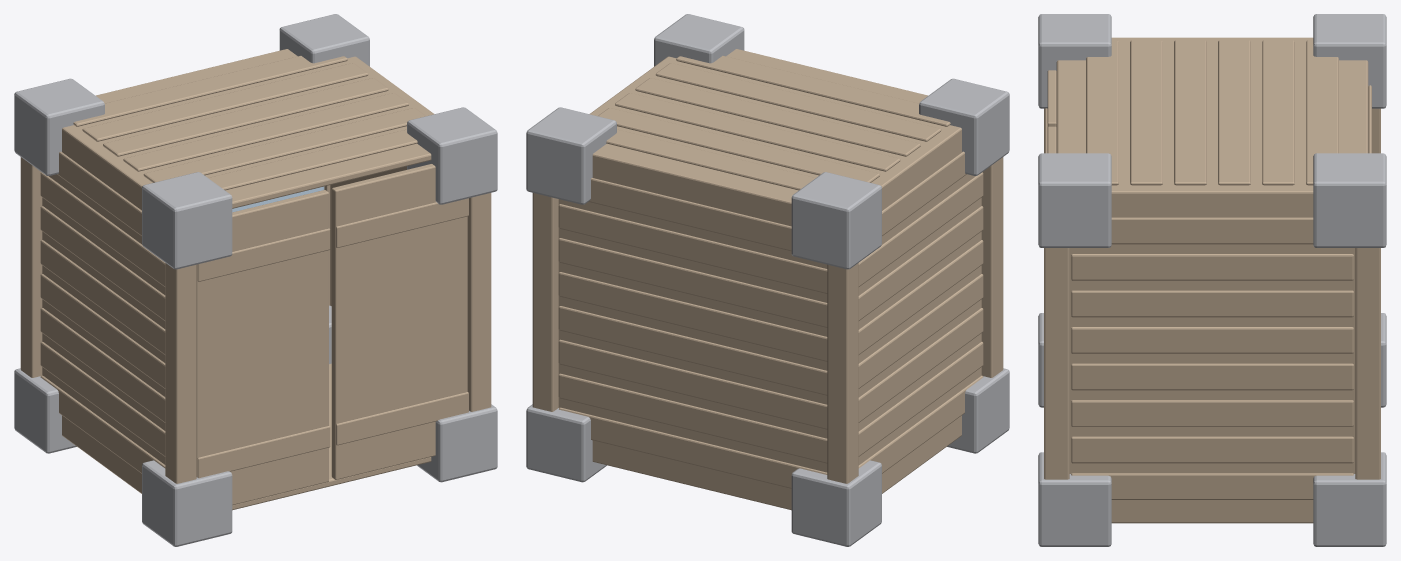
File: payload-crate.glb
3 renders of one model, left to right at view 1: azimuth 30°, elevation 25°; view 2: azimuth 150°, elevation 25°; view 3: azimuth 270°, elevation 25°, orthographic. The views are drawn at different scales.
Parts seen in each view (by area): view 1: CrateBody, DoorRight, DoorLeft, CrateBrackets; view 2: CrateBody, CrateBrackets; view 3: CrateBody, CrateBrackets, DoorLeft.
Part boxes in pixels (left/top/right/bottom): CrateBody: left=20, top=49, right=491, bottom=510; DoorRight: left=331, top=164, right=468, bottom=479; DoorLeft: left=196, top=190, right=330, bottom=505; CrateBrackets: left=14, top=14, right=497, bottom=546; CrateBody: left=532, top=49, right=1003, bottom=510; CrateBrackets: left=526, top=14, right=1009, bottom=546; CrateBody: left=1044, top=37, right=1380, bottom=523; CrateBrackets: left=1038, top=14, right=1386, bottom=546; DoorLeft: left=1045, top=70, right=1056, bottom=153.
Size of the model in its own units: 1.21 by 1.21 by 1.05.
